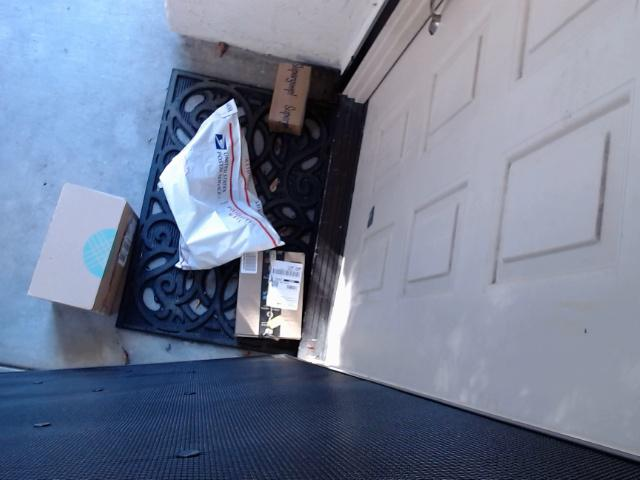box: (25, 175, 132, 325), (225, 228, 318, 366), (264, 48, 324, 151)
plastic_bag: (154, 98, 290, 281)
